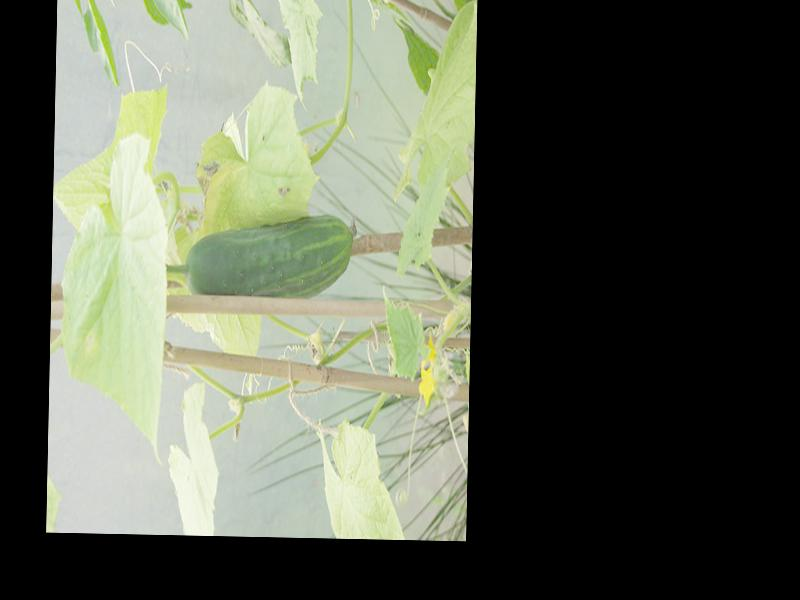Cucumber: (185, 210, 356, 300)
